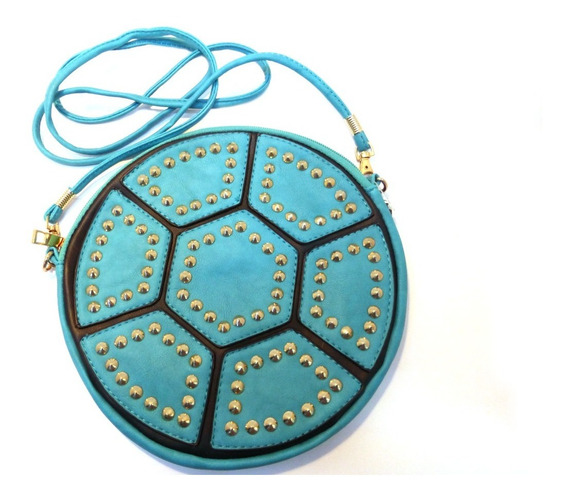cartera: (32, 25, 409, 473)
